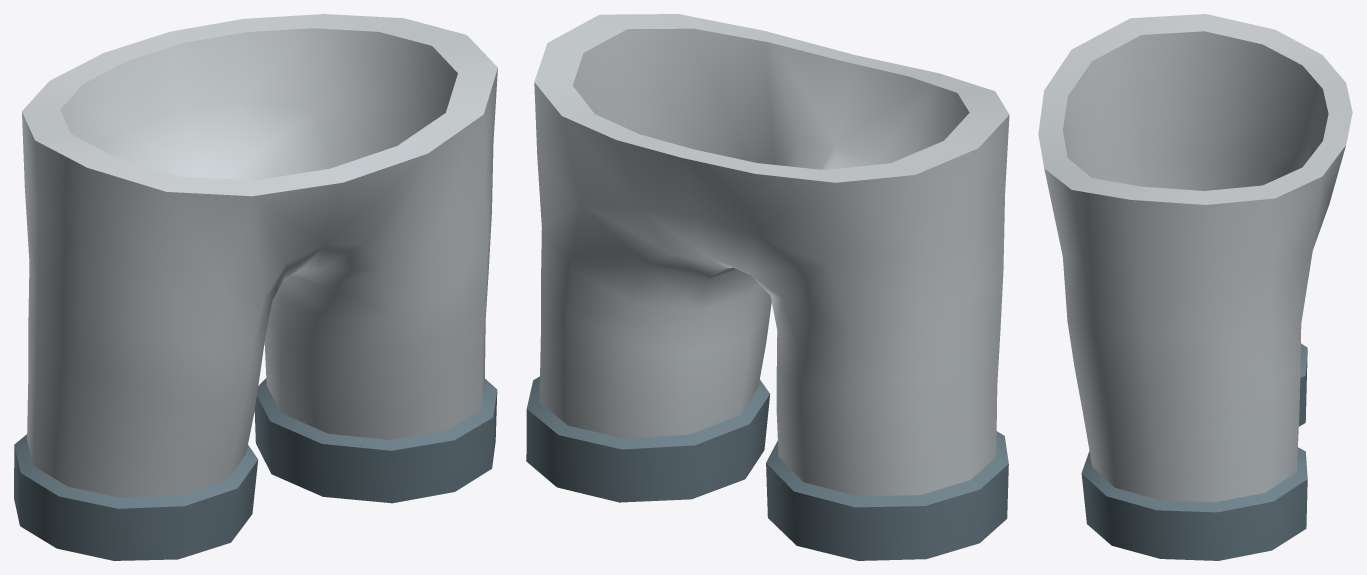
File: Shorts_01.glb
The picture shows the model from 3 angles, left to right: view 1: azimuth 30°, elevation 25°; view 2: azimuth 150°, elevation 25°; view 3: azimuth 270°, elevation 25°; orthographic projection. The views are drawn at different scales.
Parts seen in each view (by area): view 1: Shorts_01; view 2: Shorts_01; view 3: Shorts_01.
Boxes of the visible parts, box(x1,y1,x2,y2) form: Shorts_01: box(14, 14, 497, 560); Shorts_01: box(526, 14, 1009, 560); Shorts_01: box(1038, 14, 1352, 560).
Size of the model in its own units: 0.2457 by 0.2065 by 0.1647.
Materials: 1 (1 with a texture image).
